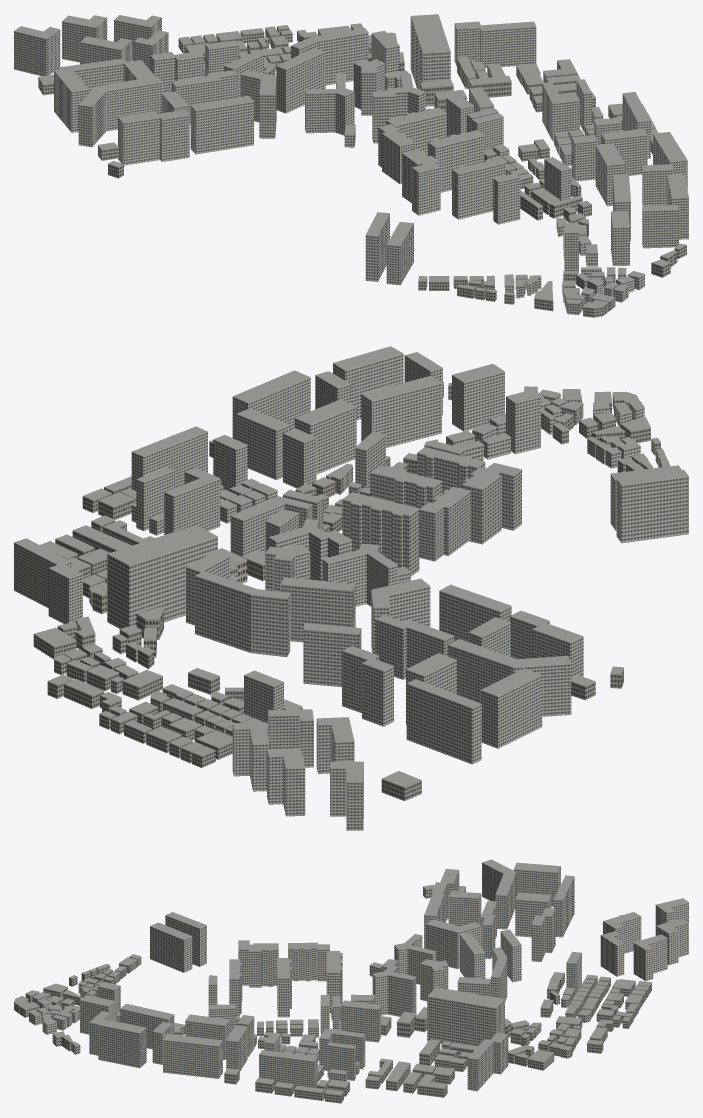
3 renders of one model, top to bottom at view 1: azimuth 30°, elevation 25°; view 2: azimuth 150°, elevation 25°; view 3: azimuth 270°, elevation 25°, orthographic. The views are drawn at different scales.
Parts seen in each view (by area): view 1: ctx-apartments, ctx-roof, ctx-other; view 2: ctx-apartments, ctx-roof, ctx-other; view 3: ctx-apartments, ctx-roof, ctx-other.
Part boxes in pixels (x1=…): ctx-apartments: x1=14, y1=16, x2=688, y2=314; ctx-roof: x1=14, y1=14, x2=688, y2=307; ctx-other: x1=38, y1=25, x2=686, y2=317; ctx-apartments: x1=14, y1=353, x2=688, y2=830; ctx-roof: x1=14, y1=346, x2=688, y2=787; ctx-other: x1=33, y1=384, x2=667, y2=800; ctx-apartments: x1=25, y1=863, x2=688, y2=1091; ctx-roof: x1=14, y1=859, x2=688, y2=1095; ctx-other: x1=14, y1=886, x2=651, y2=1103.
Size of the model in its own units: 622 by 81.69 by 902.
Materials: 4 (3 with a texture image).
